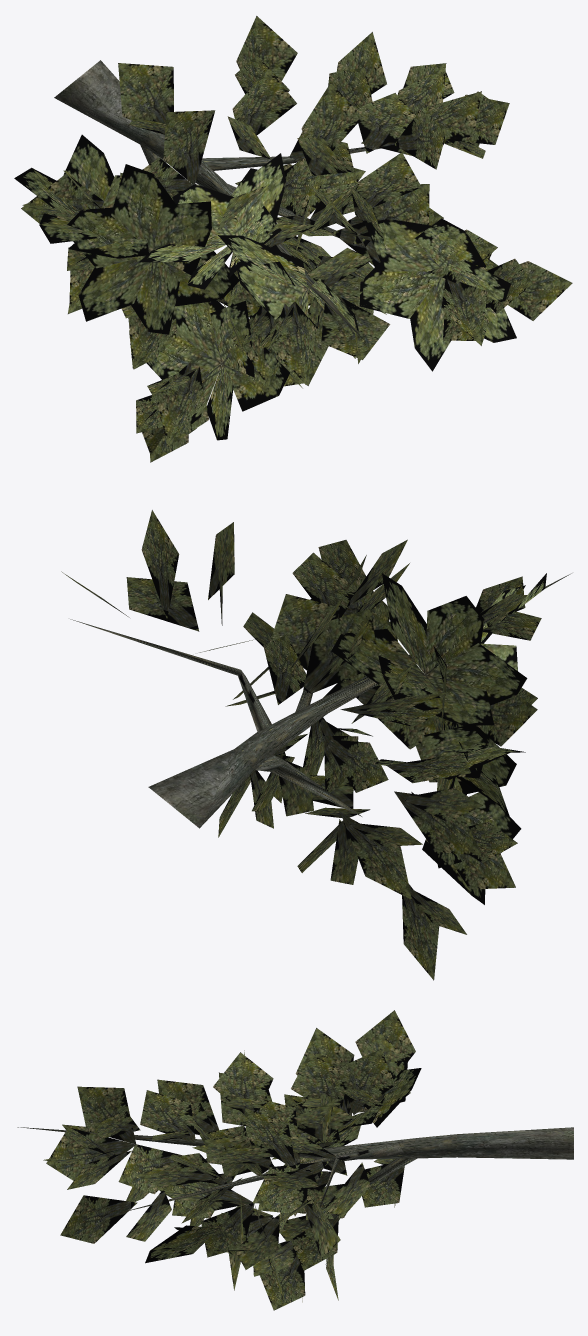
The model's file is shadow_tree_grey_oak_xl_a.glb.
3 views of the same model, one above another, from view 1: azimuth 30°, elevation 25°; view 2: azimuth 150°, elevation 25°; view 3: azimuth 270°, elevation 25° (orthographic). The views are drawn at different scales.
Size of the model in its own units: 344 by 273 by 425.
Materials: 2 (2 with a texture image).
